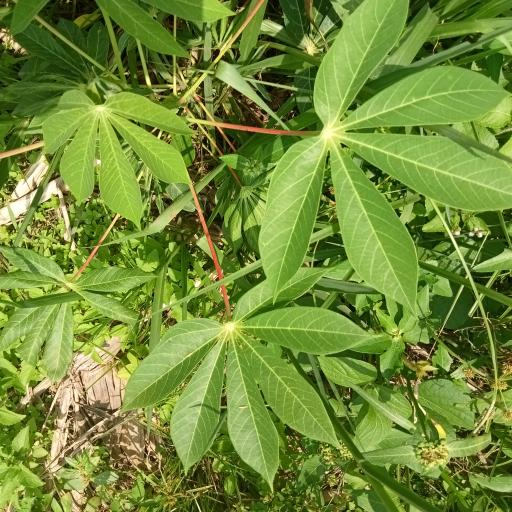Cassava_Healthy: (261, 0, 512, 301), (125, 270, 370, 476), (44, 87, 194, 226)
